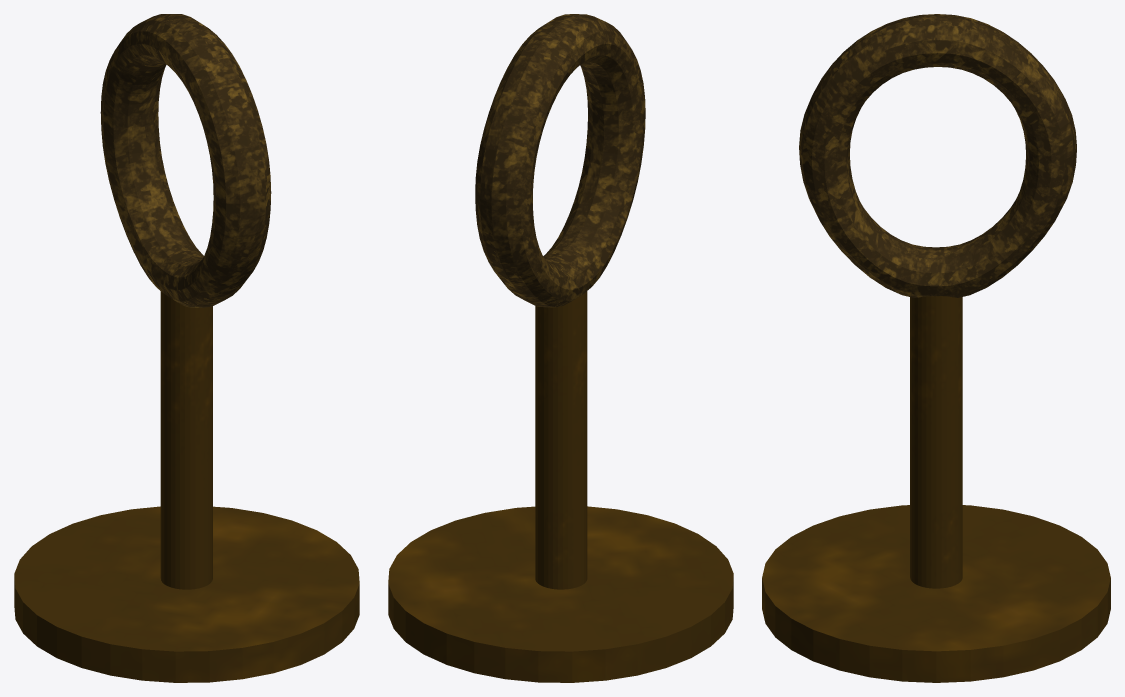
File: Final_Filler_Hand stamp.glb
3 renders of one model, left to right at view 1: azimuth 30°, elevation 25°; view 2: azimuth 150°, elevation 25°; view 3: azimuth 270°, elevation 25°, orthographic.
Parts seen in each view (by area): view 1: Cylinder, Torus, Cylinder.001; view 2: Cylinder, Torus, Cylinder.001; view 3: Cylinder, Torus, Cylinder.001.
Part boxes in pixels (x1,y1,x2,y2): Cylinder: (14,506,359,682); Torus: (100,14,271,307); Cylinder.001: (160,291,212,589); Cylinder: (388,506,733,682); Torus: (475,14,645,307); Cylinder.001: (535,291,587,589); Cylinder: (762,505,1110,682); Torus: (799,14,1076,297); Cylinder.001: (910,296,962,588).
Size of the model in its own units: 4 by 7.48 by 4.
Materials: 3 (3 with a texture image).
